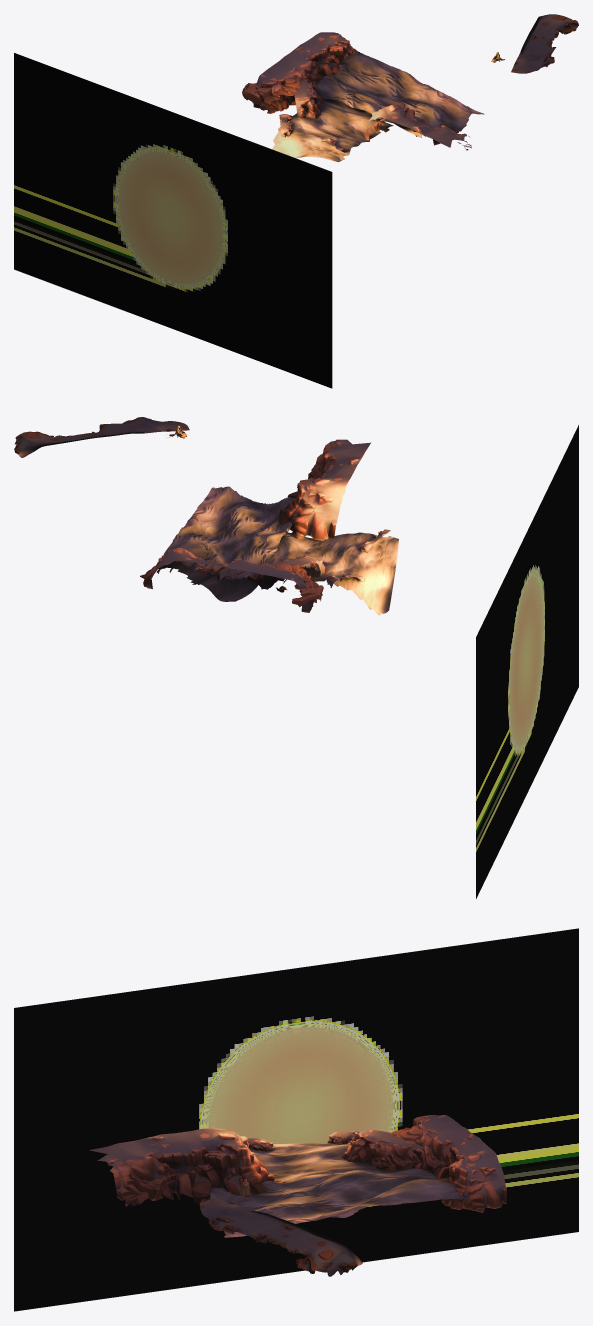
File: scena_07.glb
3 views of the same model, one above another, from view 1: azimuth 30°, elevation 25°; view 2: azimuth 150°, elevation 25°; view 3: azimuth 270°, elevation 25° (orthographic). The views are drawn at different scales.
Parts seen in each view (by area): view 1: sole_scena_7, duna_1_scena_07, duna_2_scena_07, rock_05_scene_7, rock_retro_scene_7, rock_01_scene_7, rock_06_scene_7, rock_04_scene_7; view 2: sole_scena_7, duna_1_scena_07, duna_2_scena_07, rock_01_scene_7, rock_retro_scene_7, rock_05_scene_7, rock_06_scene_7; view 3: sole_scena_7, rock_01_scene_7, duna_1_scena_07, rock_05_scene_7, rock_retro_scene_7, duna_2_scena_07, rock_04_scene_7.
Boxes of the visible parts, bbox=[...] form: sole_scena_7: bbox=[14, 53, 332, 388]; duna_1_scena_07: bbox=[314, 51, 484, 137]; duna_2_scena_07: bbox=[272, 98, 393, 162]; rock_05_scene_7: bbox=[253, 32, 359, 113]; rock_retro_scene_7: bbox=[511, 14, 578, 73]; rock_01_scene_7: bbox=[363, 103, 471, 150]; rock_06_scene_7: bbox=[242, 78, 304, 106]; rock_04_scene_7: bbox=[294, 79, 325, 118]; sole_scena_7: bbox=[476, 425, 578, 898]; duna_1_scena_07: bbox=[155, 486, 293, 601]; duna_2_scena_07: bbox=[259, 532, 398, 615]; rock_01_scene_7: bbox=[279, 439, 370, 540]; rock_retro_scene_7: bbox=[14, 417, 189, 457]; rock_05_scene_7: bbox=[140, 547, 316, 612]; rock_06_scene_7: bbox=[272, 564, 323, 606]; sole_scena_7: bbox=[14, 928, 578, 1311]; rock_01_scene_7: bbox=[89, 1127, 282, 1206]; duna_1_scena_07: bbox=[208, 1168, 469, 1237]; rock_05_scene_7: bbox=[411, 1115, 506, 1212]; rock_retro_scene_7: bbox=[199, 1198, 362, 1276]; duna_2_scena_07: bbox=[250, 1143, 384, 1181]; rock_04_scene_7: bbox=[342, 1129, 423, 1171].
Size of the model in its own units: 1357 by 597 by 1007.
8 materials, 8 textured.
